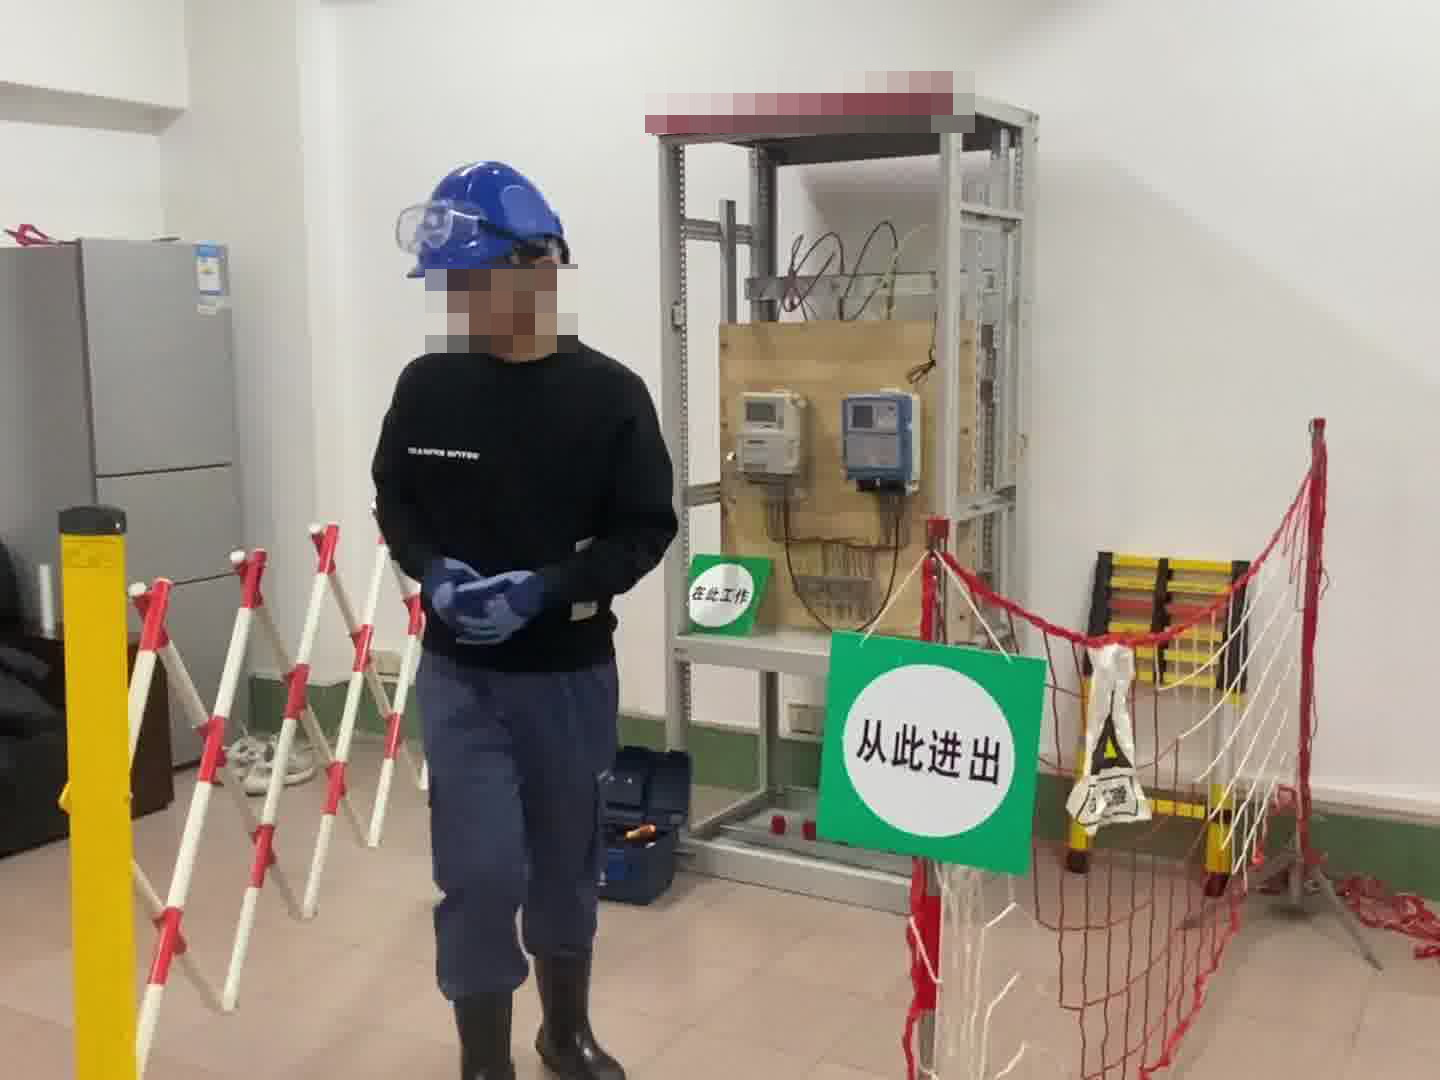downsuit: (413, 649, 618, 997)
glove: (416, 553, 546, 648)
halt: (407, 158, 581, 359)
inear: (496, 244, 563, 331)
intosign: (797, 625, 1051, 884)
person: (364, 153, 685, 1080)
shoe: (524, 943, 629, 1080), (451, 988, 522, 1080)
upcloth: (375, 323, 682, 665)
worksign: (676, 552, 774, 646)
